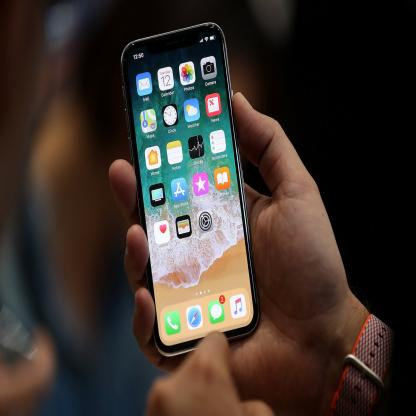smartphone: (119, 19, 260, 360)
